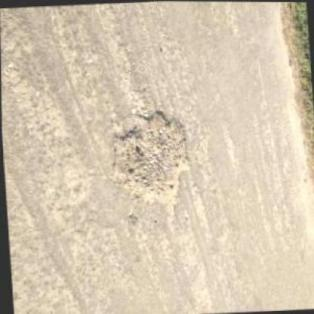Hueco: (105, 106, 192, 222)
